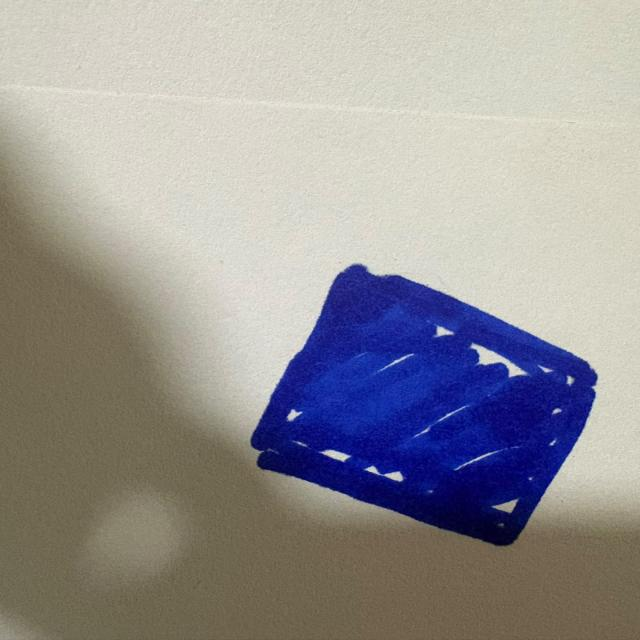Square: (251, 264, 597, 546)
